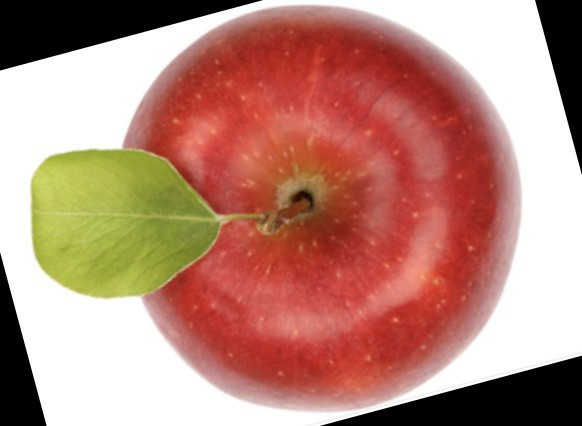fresh_apple: (119, 8, 519, 404)
